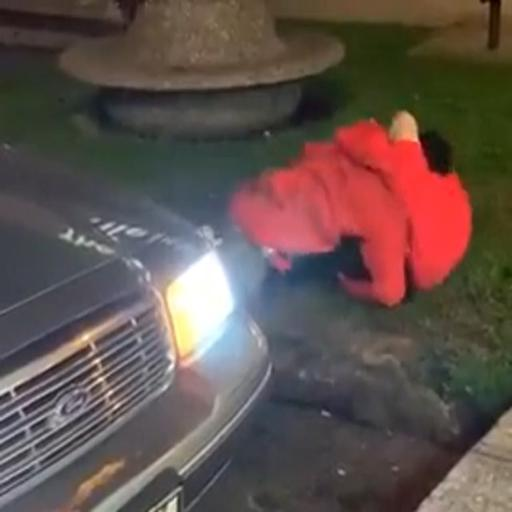violencia: (218, 97, 482, 312)
